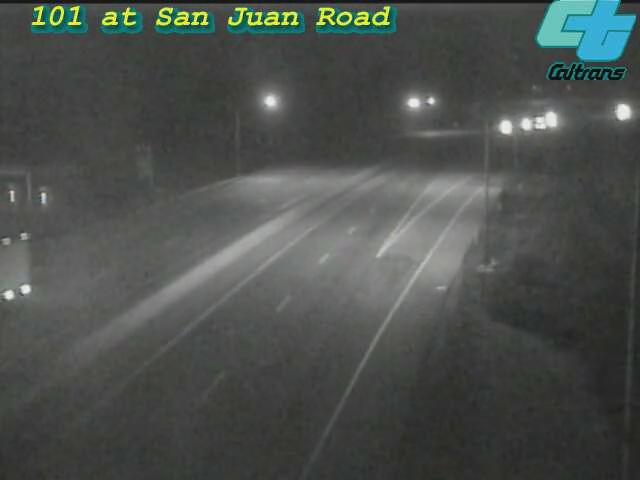vehicle: (1, 232, 50, 312), (514, 98, 564, 148), (480, 102, 530, 152), (526, 94, 576, 144), (502, 98, 552, 148), (595, 86, 640, 136), (599, 89, 640, 139)
